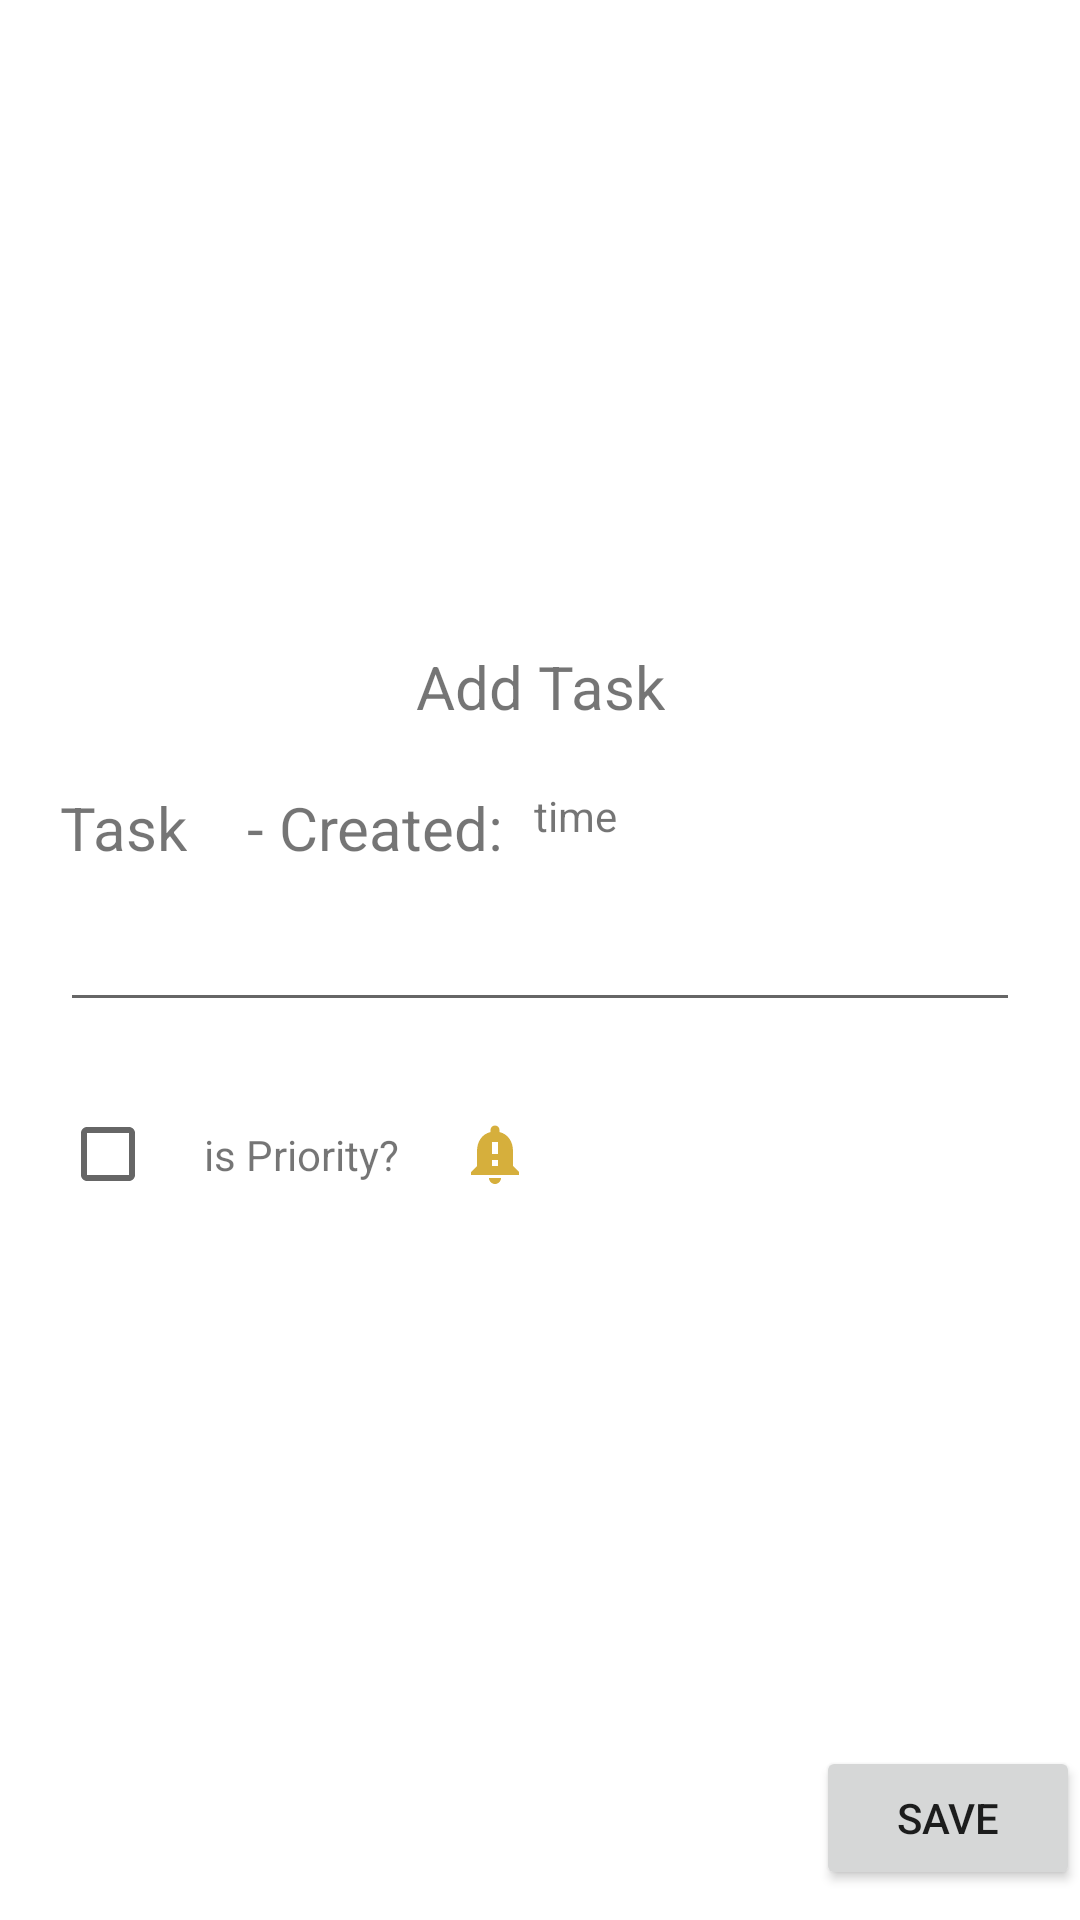

Named icons in this screenshot (1080×1920) and their centers, (x=x, y=y):
bell important: (x=495, y=1154)
